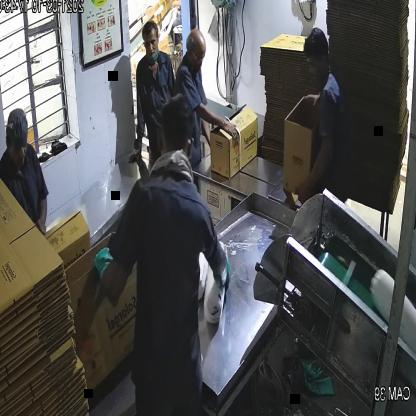no_glove: (296, 127, 336, 226), (197, 110, 241, 143)
